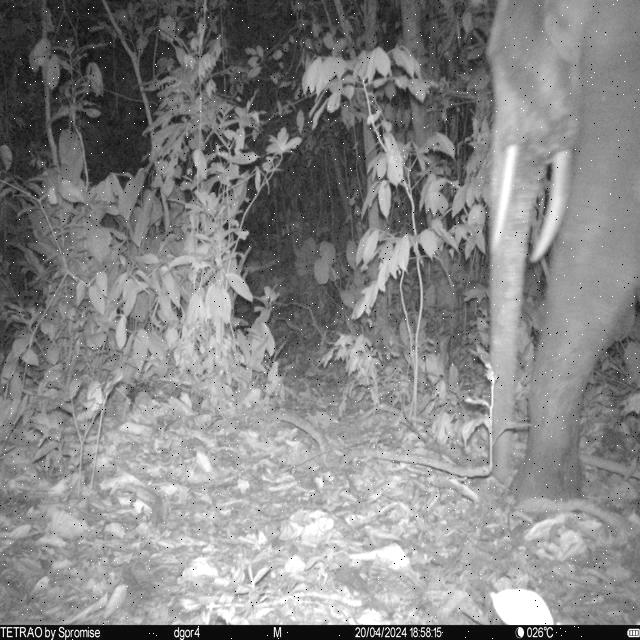elephant: (485, 0, 640, 511)
tusk: (526, 150, 572, 267), (491, 146, 519, 255)
